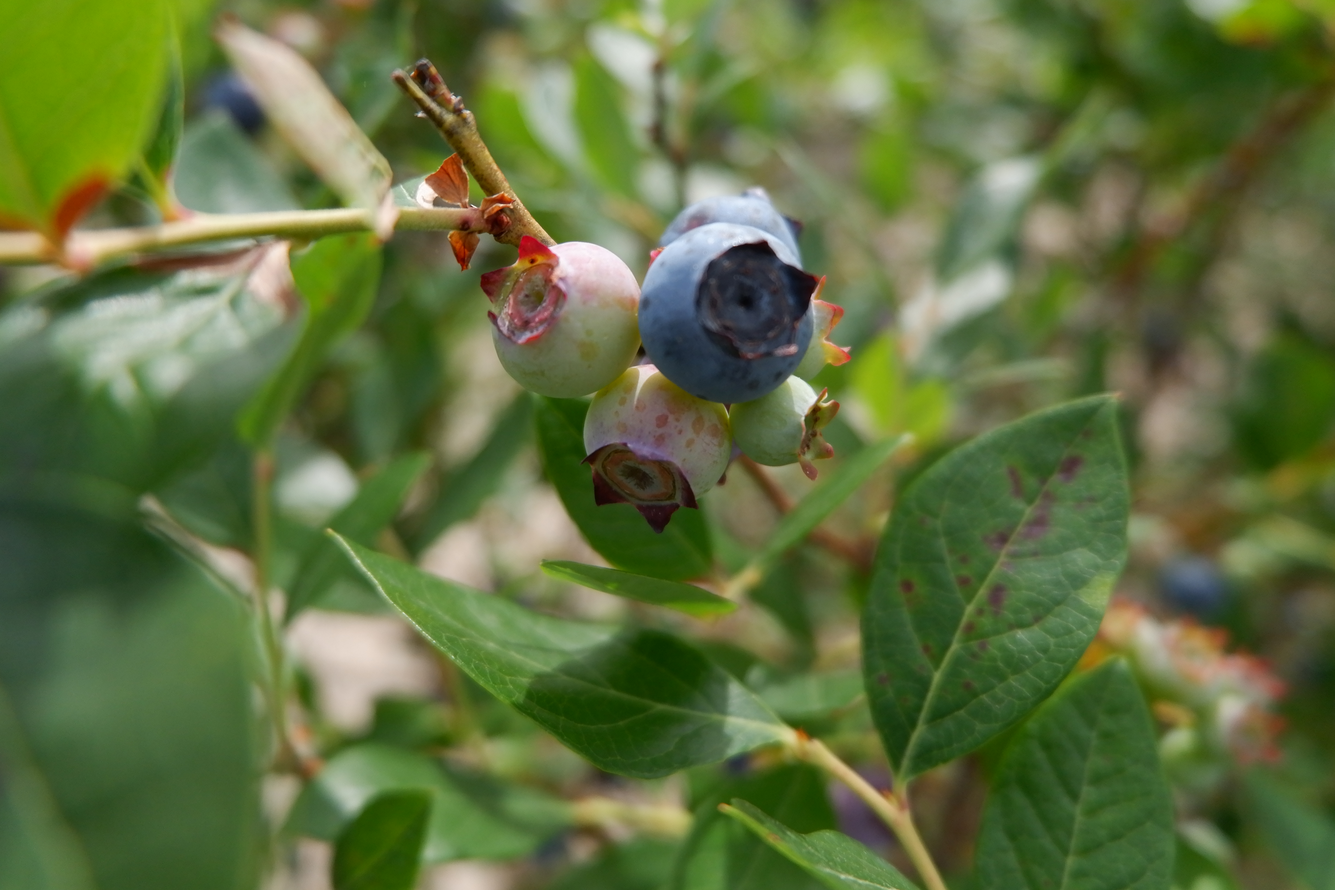Immature: (487, 244, 637, 396), (587, 366, 729, 521), (732, 379, 837, 469), (799, 275, 847, 377)
Mature: (641, 226, 815, 401), (662, 193, 803, 263)
